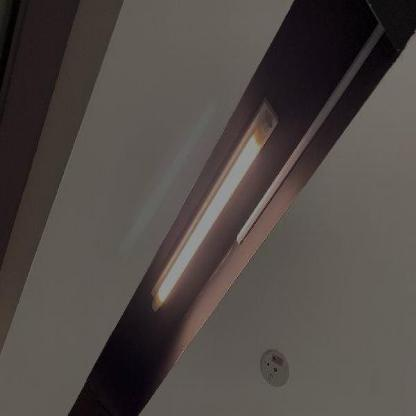light_on: (140, 90, 282, 320)
